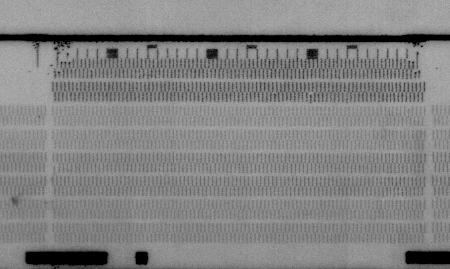Broken hole: (2, 54, 55, 106), (428, 52, 450, 106)
Oblique printing: (407, 57, 424, 78), (57, 56, 75, 71), (50, 163, 63, 175), (306, 91, 317, 104)
